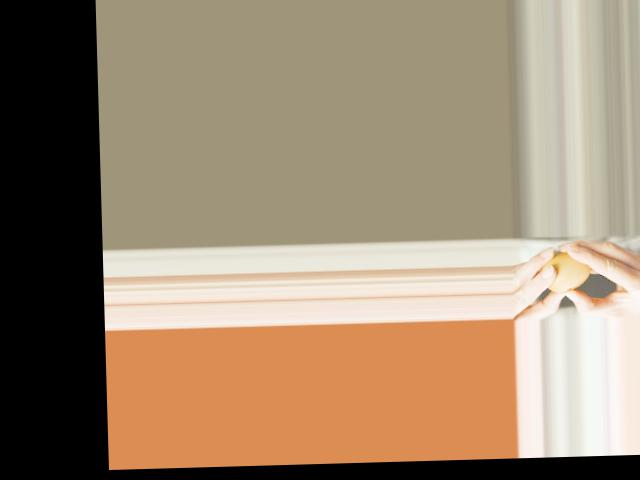egg: (540, 250, 590, 293)
